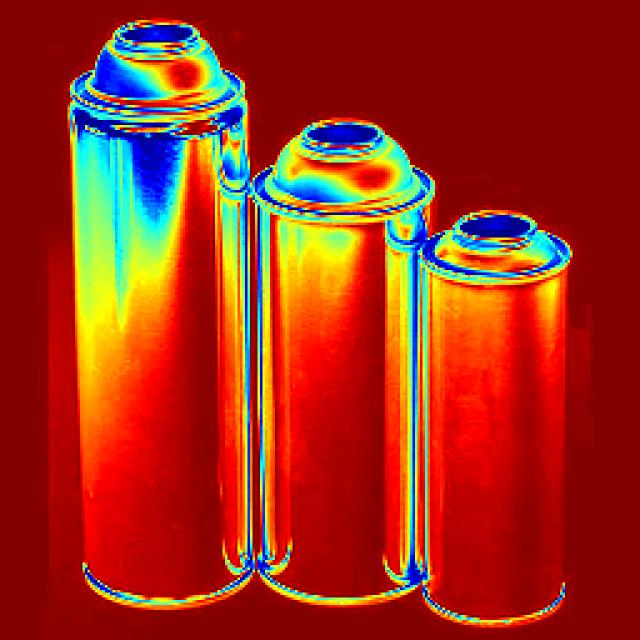Aerosol Cans: (64, 0, 259, 623), (260, 100, 430, 608), (422, 201, 578, 628)
